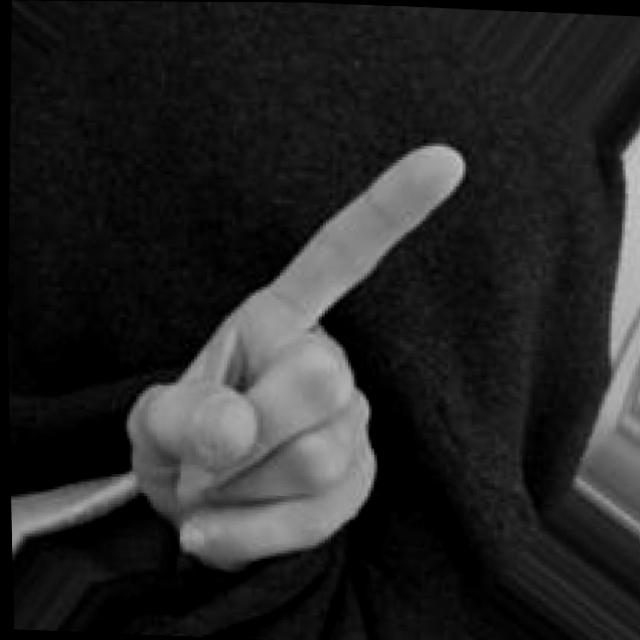I: (109, 126, 482, 587)
